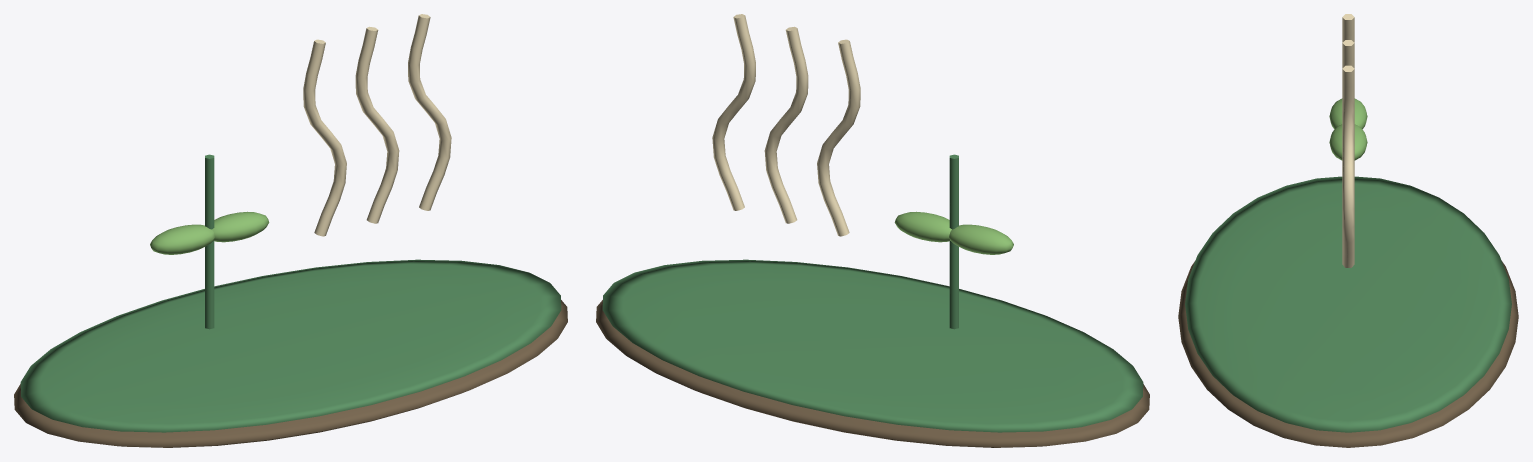
The model's file is growing-steam.glb.
3 renders of one model, left to right at view 1: azimuth 30°, elevation 25°; view 2: azimuth 150°, elevation 25°; view 3: azimuth 270°, elevation 25°, orthographic.
Parts seen in each view (by area): view 1: growing-steam_surface_01, growing-steam_surface_00, growing-steam_surface_03, growing-steam_surface_02; view 2: growing-steam_surface_01, growing-steam_surface_00, growing-steam_surface_03, growing-steam_surface_02; view 3: growing-steam_surface_01, growing-steam_surface_00, growing-steam_surface_03, growing-steam_surface_02.
Boxes of the visible parts, x1,y1,x2,y2 form: growing-steam_surface_01: (20, 154, 561, 432); growing-steam_surface_00: (14, 300, 567, 447); growing-steam_surface_03: (303, 14, 451, 236); growing-steam_surface_02: (150, 211, 269, 254); growing-steam_surface_01: (602, 154, 1143, 432); growing-steam_surface_00: (596, 300, 1149, 447); growing-steam_surface_03: (712, 14, 860, 236); growing-steam_surface_02: (894, 211, 1013, 254); growing-steam_surface_01: (1185, 176, 1511, 432); growing-steam_surface_00: (1178, 261, 1518, 447); growing-steam_surface_03: (1342, 14, 1354, 267); growing-steam_surface_02: (1329, 98, 1367, 160).
Size of the model in its own units: 4.56 by 2.68 by 2.5.
